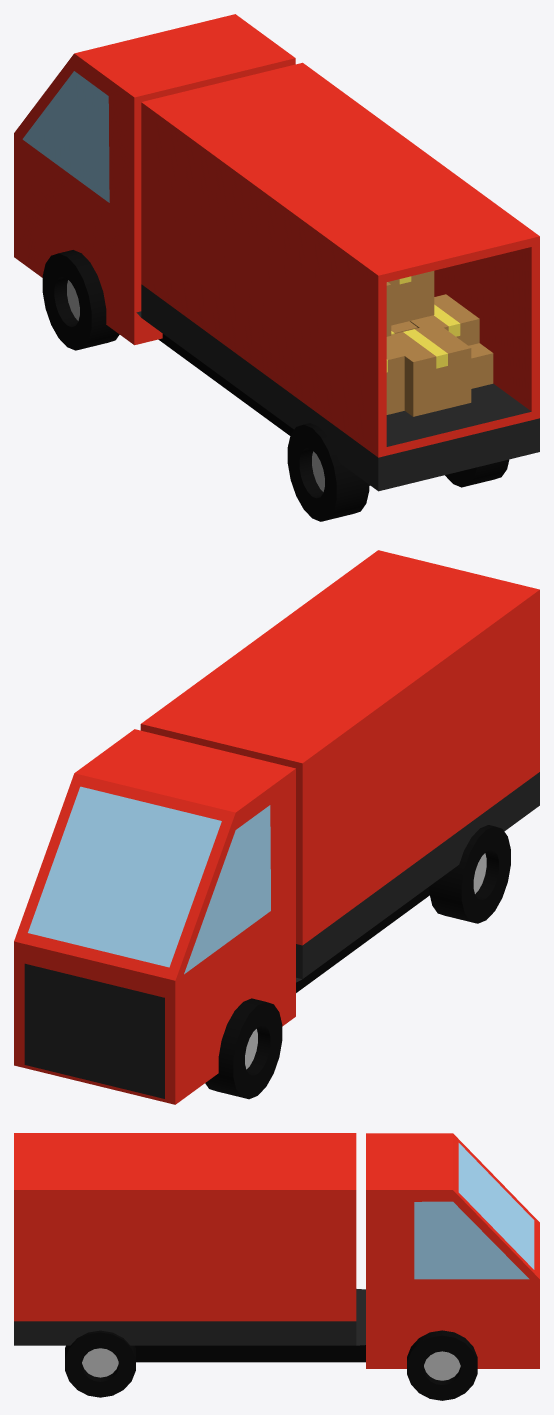
Rendered from Truck.FBX.
3 renders of one model, top to bottom at view 1: azimuth 30°, elevation 25°; view 2: azimuth 150°, elevation 25°; view 3: azimuth 270°, elevation 25°, orthographic. The views are drawn at different scales.
Visible parts, largest first — view 1: Truck; view 2: Truck; view 3: Truck.
Boxes of the visible parts, x1,y1,x2,y2 form: Truck: (14, 14, 539, 521); Truck: (14, 550, 539, 1104); Truck: (14, 1133, 539, 1400).
Size of the model in its own units: 65.62 by 93.68 by 217.
